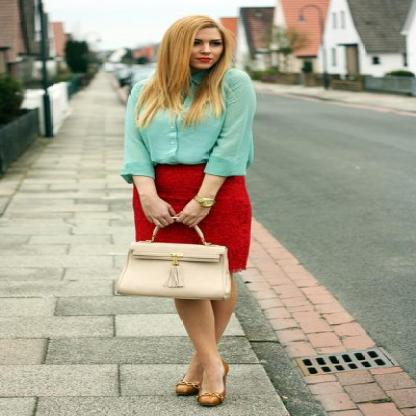bag: (120, 237, 230, 300)
shirt: (108, 76, 255, 176)
shoe: (176, 384, 226, 408)
skirt: (121, 159, 250, 274)
